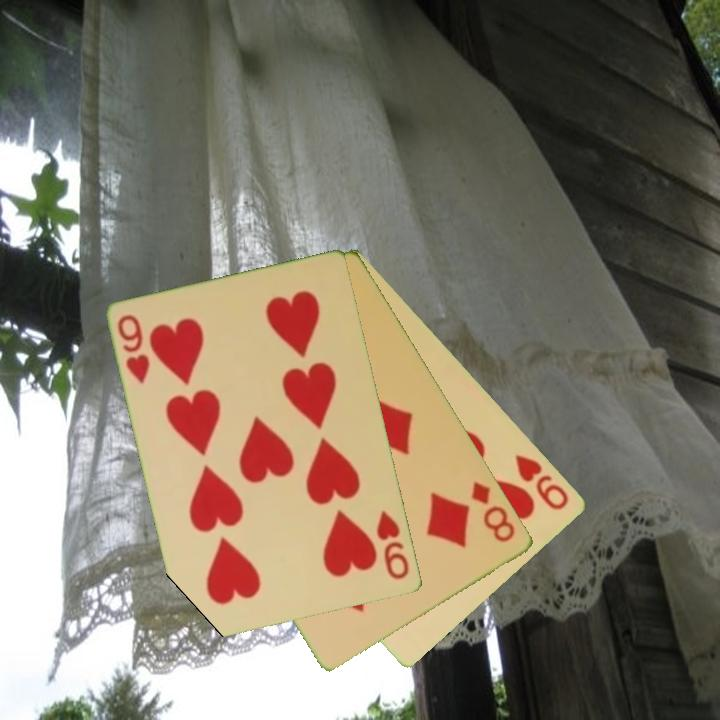8d: (468, 478, 519, 546)
9h: (511, 450, 573, 513), (114, 311, 153, 388), (373, 508, 412, 583)
